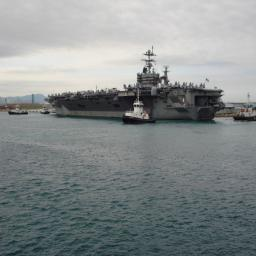Portanaves: (44, 45, 226, 123)
